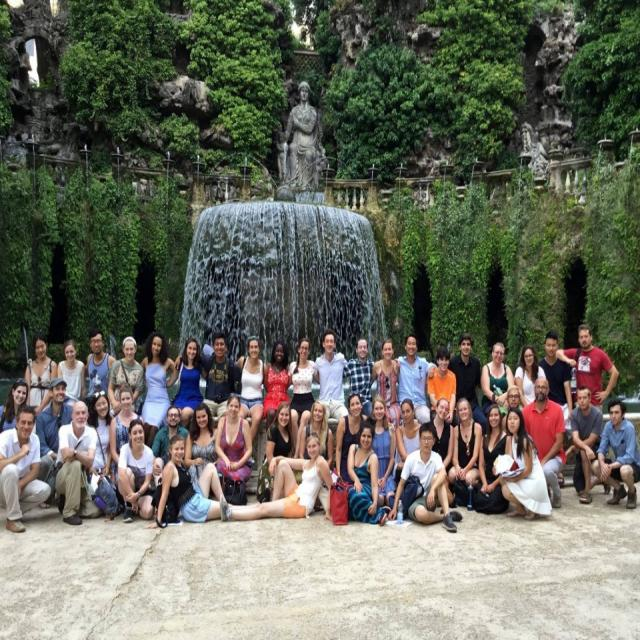body: (143, 434, 263, 530), (219, 433, 334, 522), (386, 419, 465, 533), (270, 76, 335, 192), (491, 406, 553, 523), (517, 374, 568, 509), (0, 403, 52, 534), (173, 332, 241, 422), (54, 399, 102, 526), (563, 383, 612, 504), (555, 322, 620, 413), (590, 397, 640, 510), (34, 377, 74, 509), (139, 329, 180, 450), (345, 418, 389, 527), (114, 417, 156, 524), (447, 333, 488, 438), (473, 403, 510, 515), (214, 390, 253, 496), (287, 336, 320, 461), (445, 396, 483, 504), (256, 400, 295, 504), (395, 333, 438, 426), (88, 390, 119, 517), (235, 336, 270, 448), (536, 329, 574, 432), (108, 382, 144, 488), (165, 336, 205, 431), (333, 390, 372, 485), (313, 327, 350, 425), (108, 335, 146, 421), (183, 401, 219, 489), (260, 339, 293, 434), (371, 337, 404, 430), (478, 340, 516, 419), (342, 336, 377, 420), (24, 330, 59, 414), (371, 394, 397, 507), (426, 344, 459, 428), (431, 397, 456, 507), (151, 404, 190, 470), (298, 400, 335, 468), (513, 343, 548, 412), (85, 327, 116, 399), (394, 398, 423, 472), (56, 338, 87, 400), (0, 376, 29, 433), (517, 120, 534, 160), (506, 385, 522, 410)
